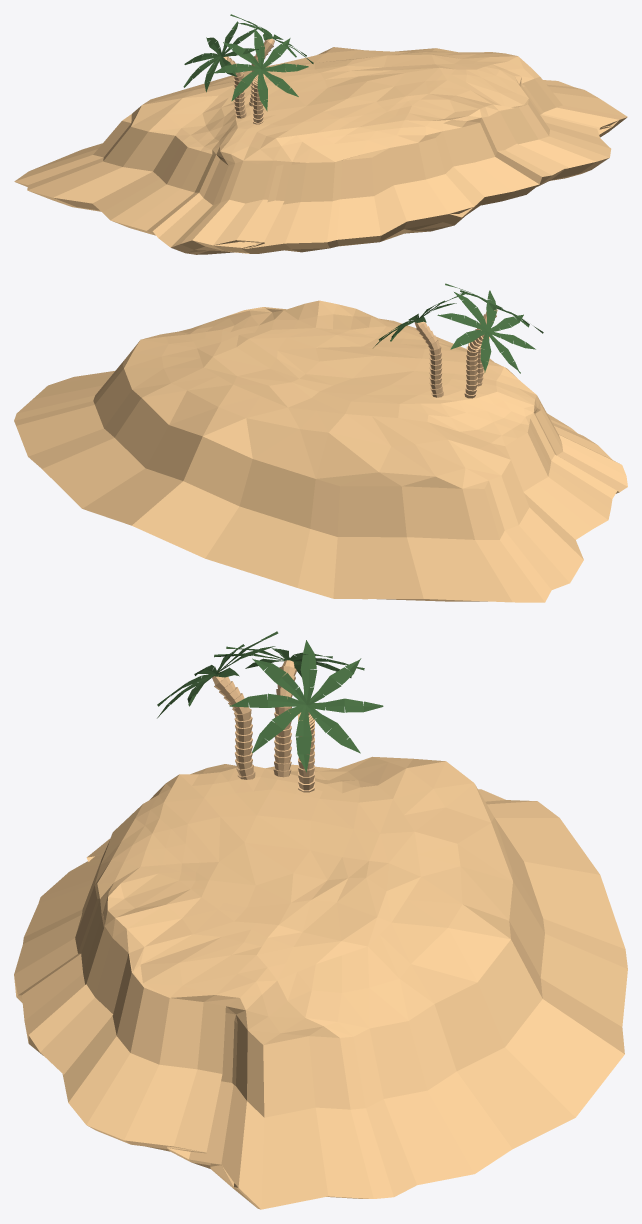
Rendered from Islas simples.fbx.
3 renders of one model, top to bottom at view 1: azimuth 30°, elevation 25°; view 2: azimuth 150°, elevation 25°; view 3: azimuth 270°, elevation 25°, orthographic. The views are drawn at different scales.
Visible parts, largest first — view 1: Isla; view 2: Isla; view 3: Isla.
Boxes of the visible parts, x1,y1,x2,y2 form: Isla: [14, 14, 627, 254]; Isla: [14, 283, 627, 602]; Isla: [14, 631, 627, 1209].
Bounding box in the file's own units: 2044 × 731 × 1288.
